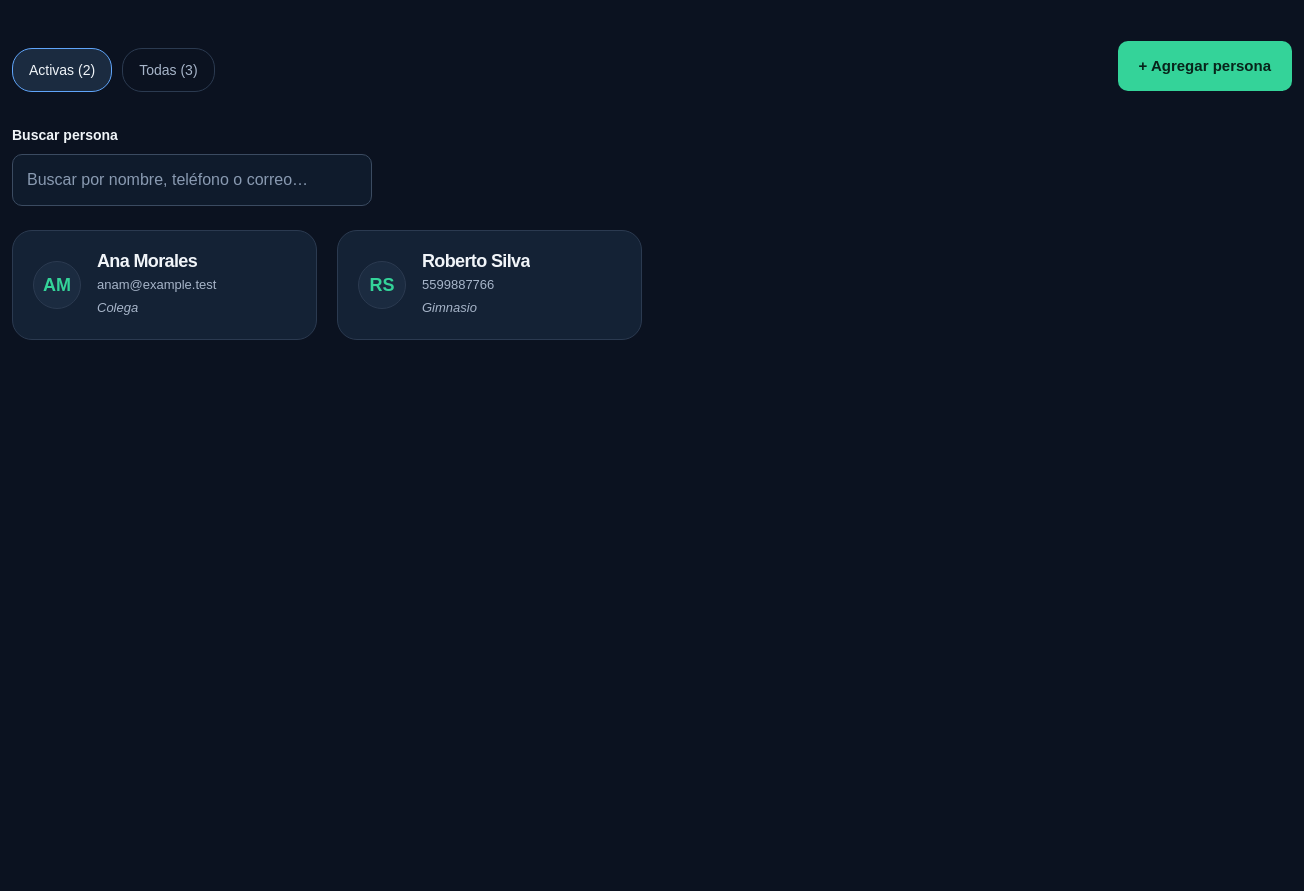
Test: PersonList › toggles person registration form
Expected: the field labelled "Nombre completo o alias" is not shown
Click the button "+ Agregar persona" at [1205, 66], box x1=1118 y1=41 x2=1292 y2=91
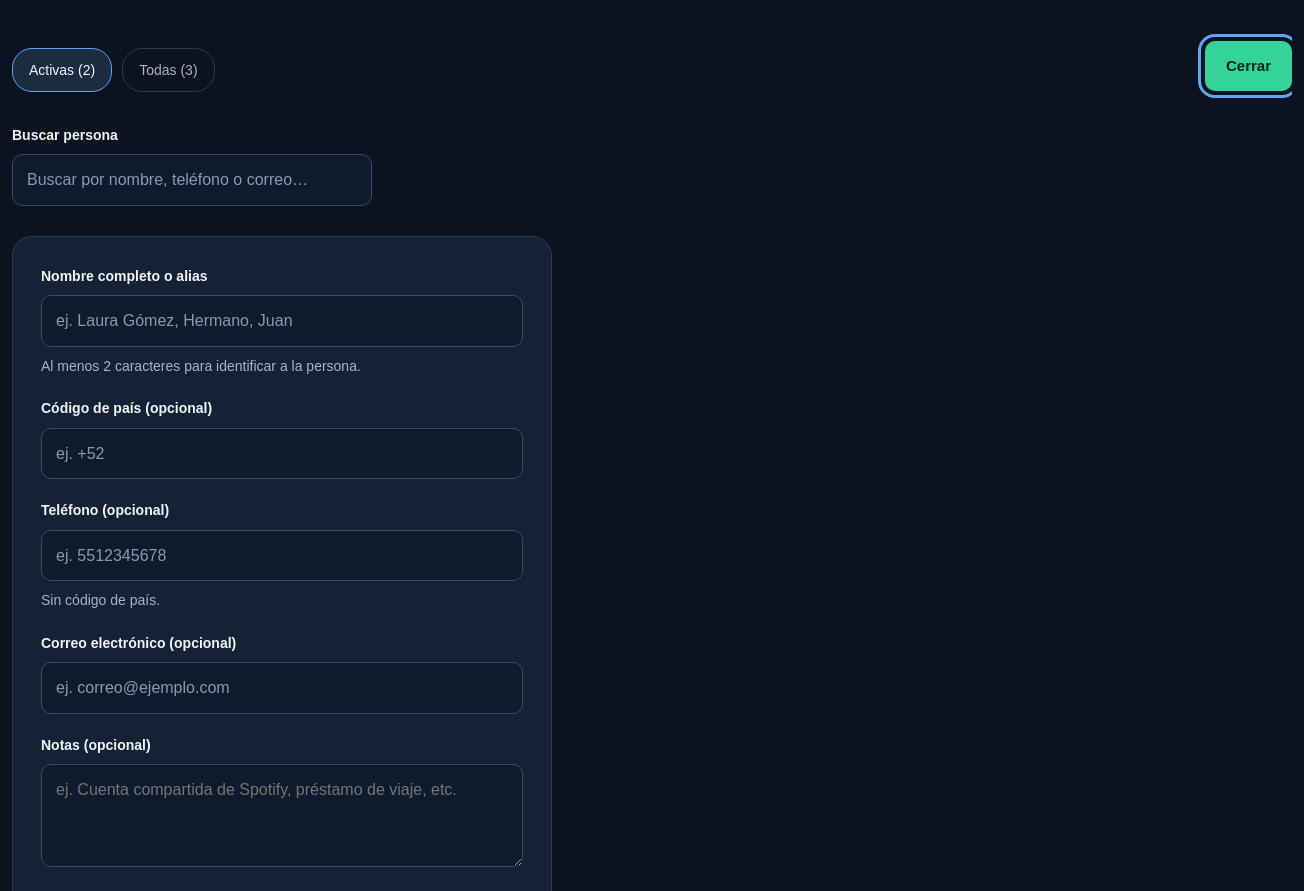
Expected: the field labelled "Nombre completo o alias" is shown, x1=41 y1=295 x2=523 y2=347
Click the button "Cerrar" at [1248, 66], box x1=1205 y1=41 x2=1292 y2=91
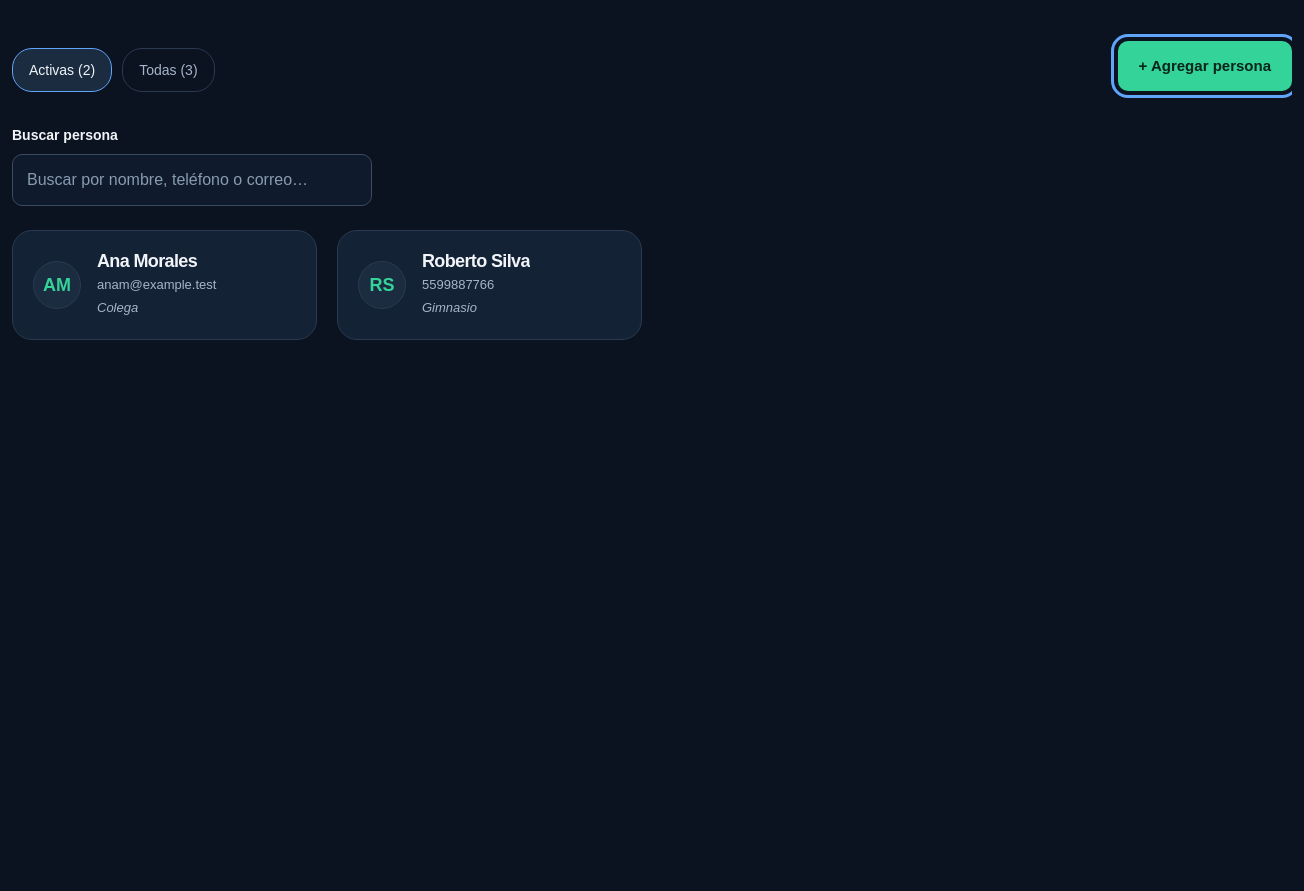
Expected: the label labelled "Nombre completo o alias" is gone
